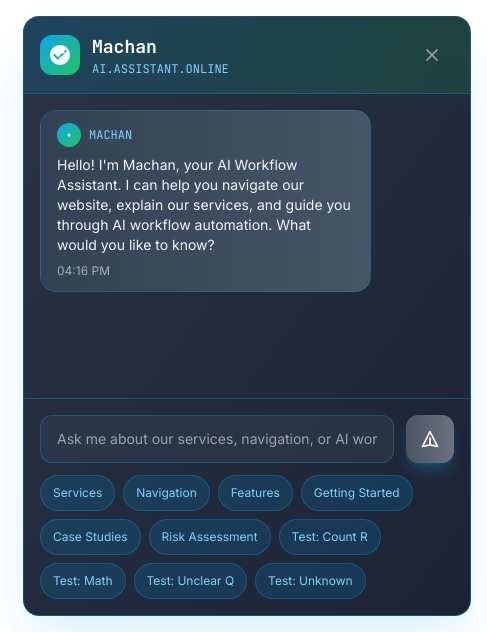
Scenario: AIAssistant › populates input when quick action button is clicked
Click the button "Services" at point(78, 493), box left=40, top=475, right=115, bottom=511
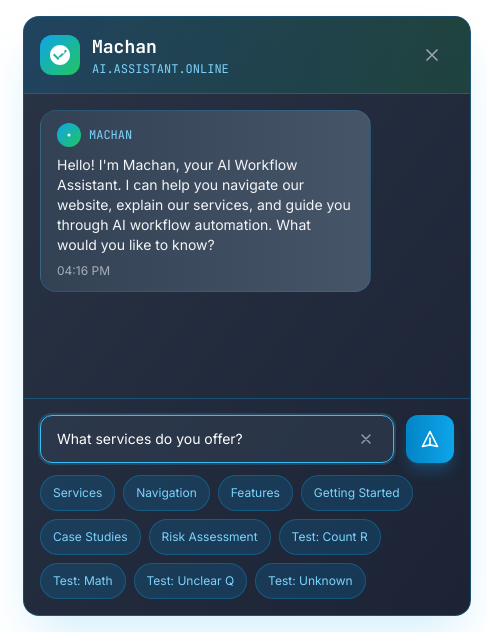
Expected: the field with placeholder "Ask me about our services, navigation, or AI workflows..." holds "What services do you offer?", left=40, top=415, right=394, bottom=463
